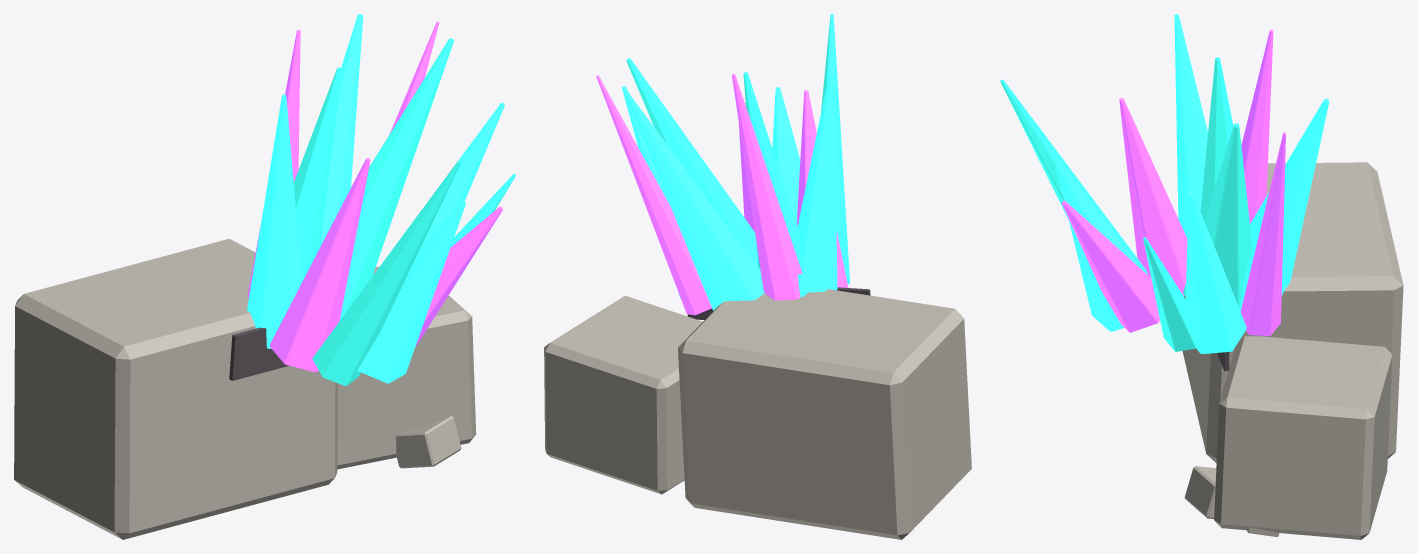
Rendered from runtime.glb.
The picture shows the model from 3 angles, left to right: view 1: azimuth 30°, elevation 25°; view 2: azimuth 150°, elevation 25°; view 3: azimuth 270°, elevation 25°; orthographic projection. The views are drawn at different scales.
Visible parts, largest first — view 1: crystal-ruins-crystal-growth-v09_stone_00_nocol, crystal-ruins-crystal-growth-v09_stone_01_nocol, crystal-ruins-crystal-growth-v09_crystal_07_nocol, crystal-ruins-crystal-growth-v09_crystal_02_nocol, crystal-ruins-crystal-growth-v09_crystal_06_nocol, crystal-ruins-crystal-growth-v09_crystal_08_nocol, crystal-ruins-crystal-growth-v09_crystal_09_nocol, crystal-ruins-crystal-growth-v09_crystal_05_nocol, crystal-ruins-crystal-growth-v09_crystal_03_nocol, crystal-ruins-crystal-growth-v09_stone_10_nocol, crystal-ruins-crystal-growth-v09_crystal_00_nocol, crystal-ruins-crystal-growth-v09_crystal_10_nocol (+4 smaller); view 2: crystal-ruins-crystal-growth-v09_stone_00_nocol, crystal-ruins-crystal-growth-v09_stone_01_nocol, crystal-ruins-crystal-growth-v09_crystal_03_nocol, crystal-ruins-crystal-growth-v09_crystal_06_nocol, crystal-ruins-crystal-growth-v09_crystal_04_nocol, crystal-ruins-crystal-growth-v09_crystal_01_nocol, crystal-ruins-crystal-growth-v09_crystal_02_nocol, crystal-ruins-crystal-growth-v09_crystal_05_nocol, crystal-ruins-crystal-growth-v09_crystal_08_nocol, crystal-ruins-crystal-growth-v09_crystal_09_nocol, crystal-ruins-crystal-growth-v09_crystal_07_nocol, crystal-ruins-crystal-growth-v09_crystal_00_nocol (+1 smaller); view 3: crystal-ruins-crystal-growth-v09_stone_01_nocol, crystal-ruins-crystal-growth-v09_stone_00_nocol, crystal-ruins-crystal-growth-v09_crystal_07_nocol, crystal-ruins-crystal-growth-v09_crystal_00_nocol, crystal-ruins-crystal-growth-v09_crystal_01_nocol, crystal-ruins-crystal-growth-v09_crystal_10_nocol, crystal-ruins-crystal-growth-v09_crystal_02_nocol, crystal-ruins-crystal-growth-v09_crystal_06_nocol, crystal-ruins-crystal-growth-v09_crystal_03_nocol, crystal-ruins-crystal-growth-v09_crystal_04_nocol, crystal-ruins-crystal-growth-v09_crystal_09_nocol, crystal-ruins-crystal-growth-v09_crystal_11_nocol (+3 smaller).
Part boxes in pixels (x1,y1,x2,y2): crystal-ruins-crystal-growth-v09_stone_00_nocol: [14, 238, 337, 539]; crystal-ruins-crystal-growth-v09_stone_01_nocol: [337, 266, 476, 469]; crystal-ruins-crystal-growth-v09_crystal_07_nocol: [269, 158, 370, 372]; crystal-ruins-crystal-growth-v09_crystal_02_nocol: [320, 38, 453, 320]; crystal-ruins-crystal-growth-v09_crystal_06_nocol: [247, 94, 301, 348]; crystal-ruins-crystal-growth-v09_crystal_08_nocol: [312, 160, 461, 386]; crystal-ruins-crystal-growth-v09_crystal_09_nocol: [357, 201, 465, 383]; crystal-ruins-crystal-growth-v09_crystal_05_nocol: [293, 67, 341, 281]; crystal-ruins-crystal-growth-v09_crystal_03_nocol: [320, 14, 363, 244]; crystal-ruins-crystal-growth-v09_stone_10_nocol: [396, 416, 461, 468]; crystal-ruins-crystal-growth-v09_crystal_00_nocol: [372, 102, 504, 276]; crystal-ruins-crystal-growth-v09_crystal_10_nocol: [415, 206, 502, 347]; crystal-ruins-crystal-growth-v09_stone_00_nocol: [678, 289, 971, 539]; crystal-ruins-crystal-growth-v09_stone_01_nocol: [544, 295, 702, 494]; crystal-ruins-crystal-growth-v09_crystal_03_nocol: [626, 95, 764, 310]; crystal-ruins-crystal-growth-v09_crystal_06_nocol: [797, 69, 837, 292]; crystal-ruins-crystal-growth-v09_crystal_04_nocol: [732, 74, 802, 300]; crystal-ruins-crystal-growth-v09_crystal_01_nocol: [596, 75, 711, 315]; crystal-ruins-crystal-growth-v09_crystal_02_nocol: [626, 58, 758, 266]; crystal-ruins-crystal-growth-v09_crystal_05_nocol: [743, 72, 808, 297]; crystal-ruins-crystal-growth-v09_crystal_08_nocol: [821, 14, 849, 283]; crystal-ruins-crystal-growth-v09_crystal_09_nocol: [772, 87, 800, 222]; crystal-ruins-crystal-growth-v09_crystal_07_nocol: [796, 90, 848, 287]; crystal-ruins-crystal-growth-v09_crystal_00_nocol: [622, 86, 680, 297]; crystal-ruins-crystal-growth-v09_stone_01_nocol: [1214, 336, 1392, 539]; crystal-ruins-crystal-growth-v09_stone_00_nocol: [1182, 162, 1403, 463]; crystal-ruins-crystal-growth-v09_crystal_07_nocol: [1119, 98, 1187, 295]; crystal-ruins-crystal-growth-v09_crystal_00_nocol: [1185, 191, 1246, 353]; crystal-ruins-crystal-growth-v09_crystal_01_nocol: [1240, 132, 1285, 336]; crystal-ruins-crystal-growth-v09_crystal_10_nocol: [1062, 200, 1159, 332]; crystal-ruins-crystal-growth-v09_crystal_02_nocol: [1183, 123, 1252, 308]; crystal-ruins-crystal-growth-v09_crystal_06_nocol: [1174, 14, 1207, 237]; crystal-ruins-crystal-growth-v09_crystal_03_nocol: [1239, 98, 1329, 311]; crystal-ruins-crystal-growth-v09_crystal_04_nocol: [1241, 29, 1273, 223]; crystal-ruins-crystal-growth-v09_crystal_09_nocol: [1056, 163, 1140, 331]; crystal-ruins-crystal-growth-v09_crystal_11_nocol: [1143, 237, 1195, 351].
Bounding box in the file's own units: 6.7 × 6.92 × 5.77.
